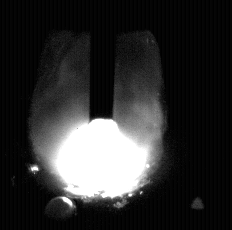arame: (90, 0, 115, 119)
poca: (29, 0, 166, 230)
